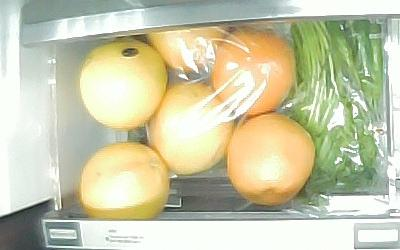grapefruit: (226, 113, 315, 209), (79, 39, 167, 130), (79, 142, 169, 220)
grapefruit_vinyl: (146, 81, 232, 174), (214, 27, 297, 114), (142, 25, 232, 80)
